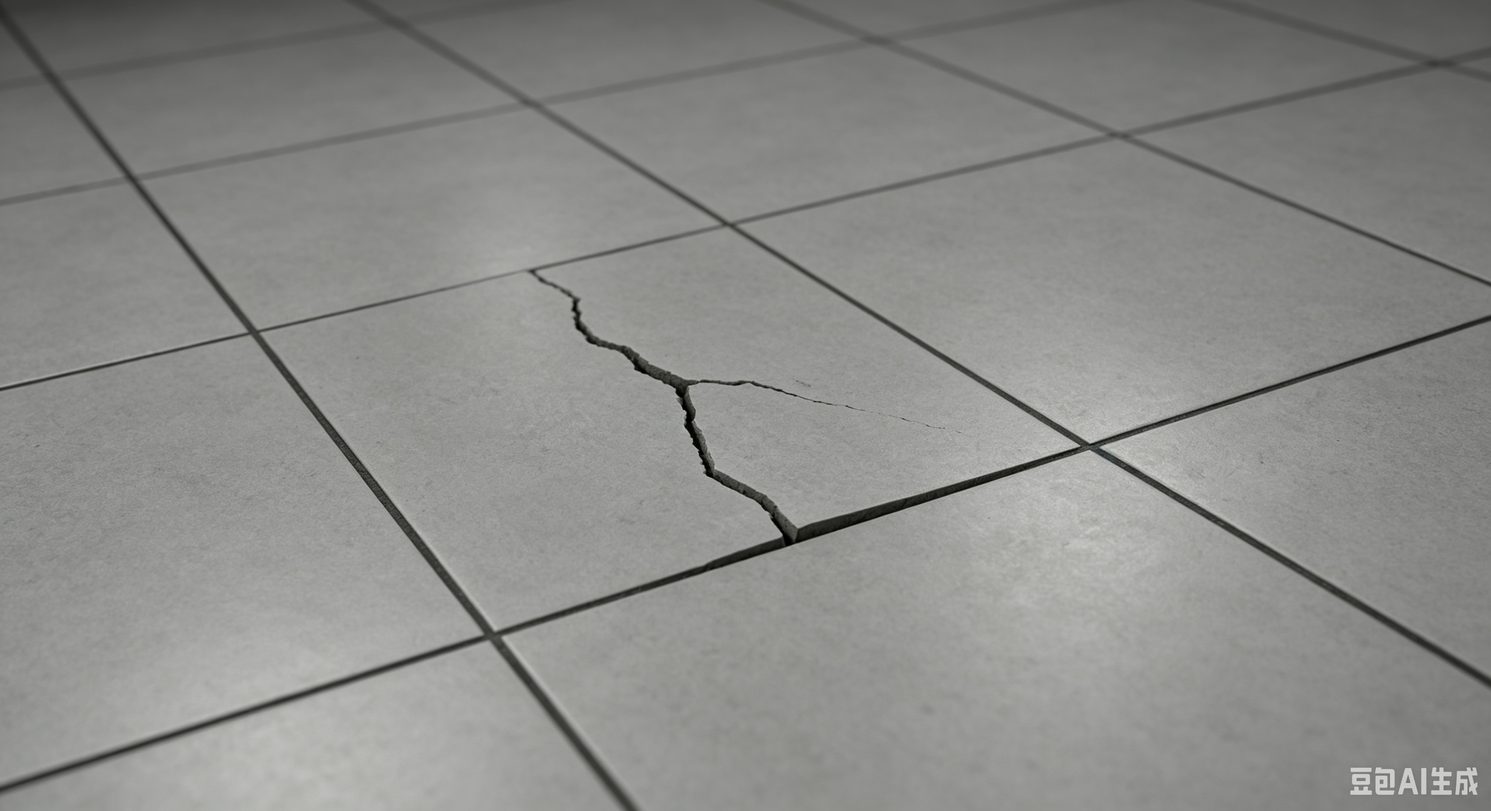floor_defect: (666, 416, 804, 551), (723, 361, 958, 433), (559, 329, 719, 416), (519, 272, 595, 328)
